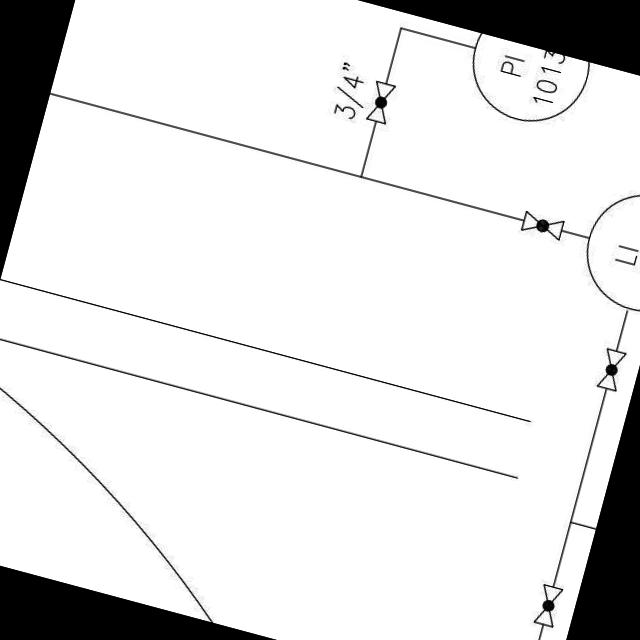BV2: (513, 203, 573, 246), (360, 74, 400, 130), (590, 341, 630, 396), (528, 578, 564, 634)
